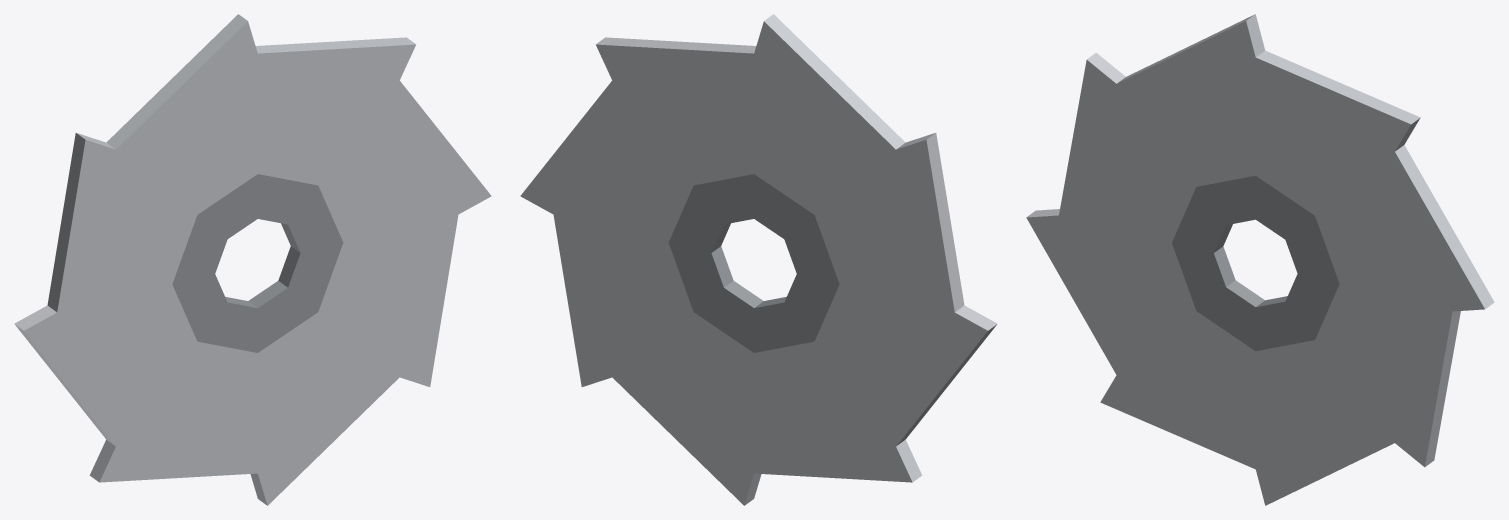
The model's file is SM_Item_Blade_01.fbx.
The picture shows the model from 3 angles, left to right: view 1: azimuth 30°, elevation 25°; view 2: azimuth 150°, elevation 25°; view 3: azimuth 330°, elevation 25°; orthographic projection.
Visible parts, largest first — view 1: SM_Item_Blade_01; view 2: SM_Item_Blade_01; view 3: SM_Item_Blade_01.
Boxes of the visible parts, bbox=[...] form: SM_Item_Blade_01: bbox=[14, 14, 491, 505]; SM_Item_Blade_01: bbox=[520, 14, 997, 505]; SM_Item_Blade_01: bbox=[1026, 14, 1494, 505].
Bounding box in the file's own units: 24.06 × 24.06 × 0.8669.
